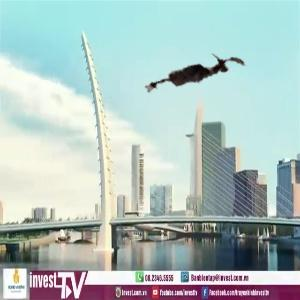drone: (132, 20, 247, 135)
